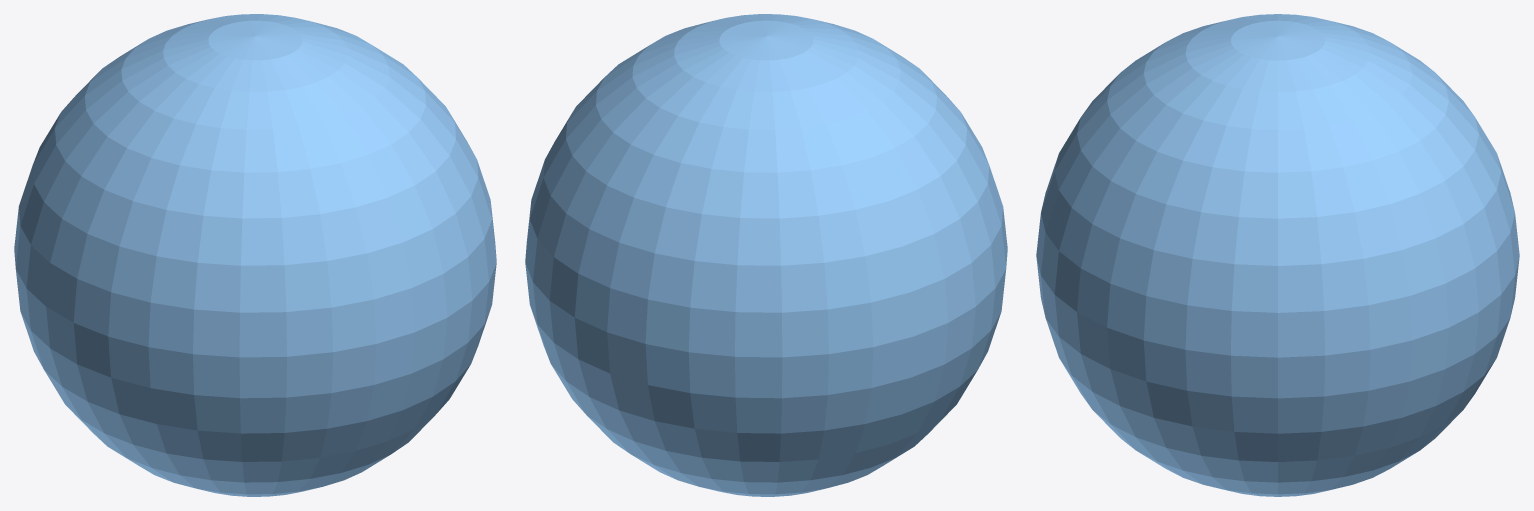
3 renders of one model, left to right at view 1: azimuth 30°, elevation 25°; view 2: azimuth 150°, elevation 25°; view 3: azimuth 270°, elevation 25°, orthographic.
Visible parts, largest first — view 1: -9.000; view 2: -9.000; view 3: -9.000.
Boxes of the visible parts, x1,y1,x2,y2 form: -9.000: (14, 14, 496, 496); -9.000: (525, 14, 1007, 496); -9.000: (1036, 14, 1519, 496).
Bounding box in the file's own units: 0.0456 × 0.0456 × 0.0456.
